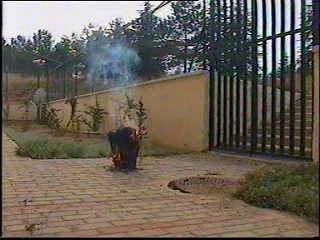smoke: (83, 35, 141, 113)
